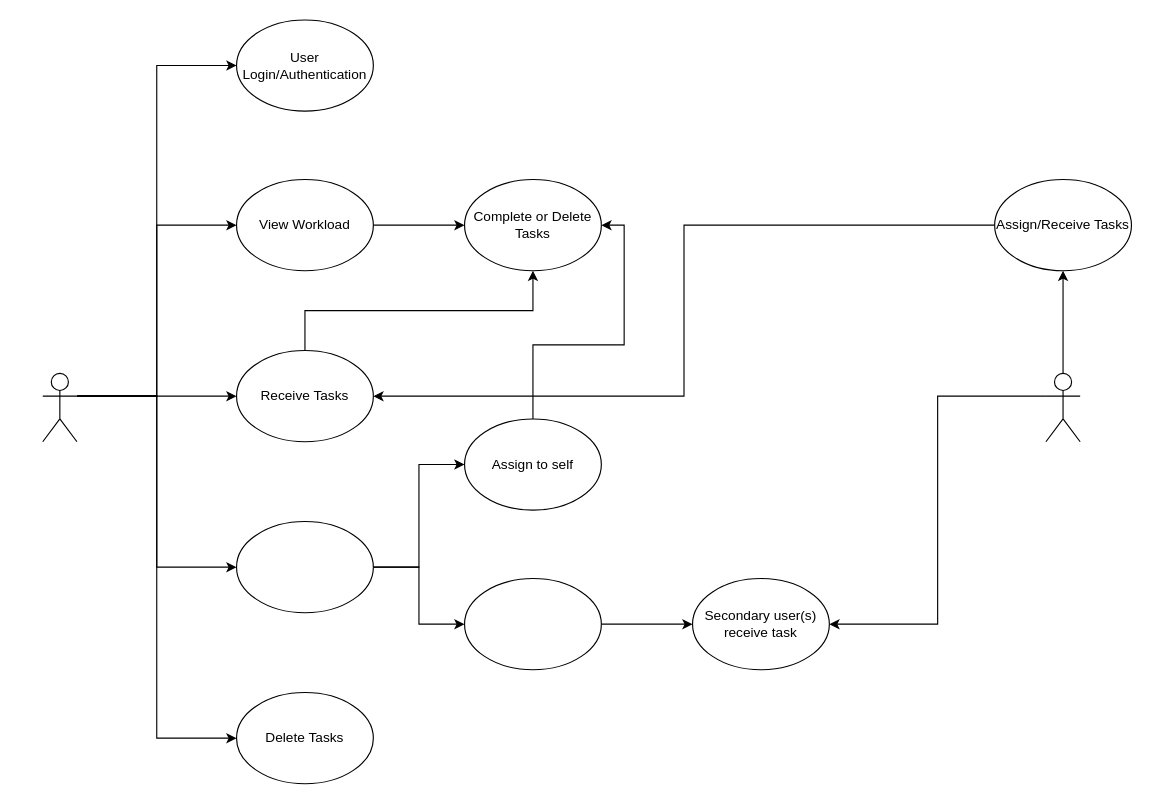
The diagram is 1151 pixels wide and 804 high, and some of its shapes have lost their labels. The box of each missing label's shape, as (x1, y1, x2, y2) in pixels:
Assign to other users: (463, 577, 601, 670)
Create Tasks: (235, 520, 373, 613)
Primary User: (42, 372, 77, 442)
Secondary User: (1045, 372, 1080, 442)
